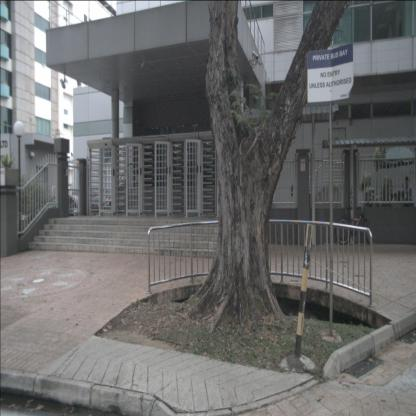human-pedestrian-adult: (402, 176, 414, 216)
vehicle-bicycle: (335, 201, 372, 246)
